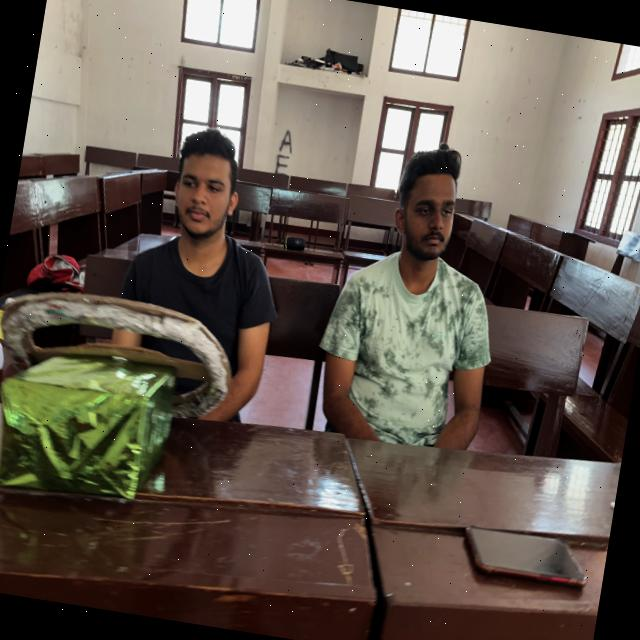Helmet: (313, 257, 504, 471), (98, 230, 290, 442)
